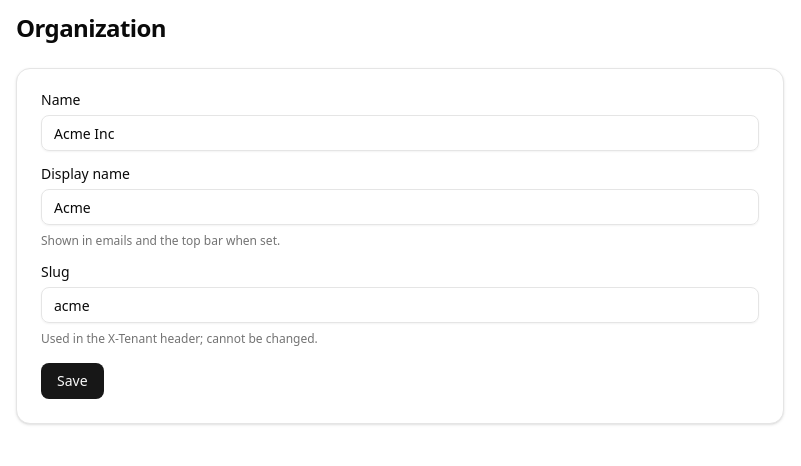
Test: Organization page › an empty name is refused before sending
This screenshot has width=801, height=466.
Clear the field labelled "Name" at (400, 133), box [41,115,759,151]
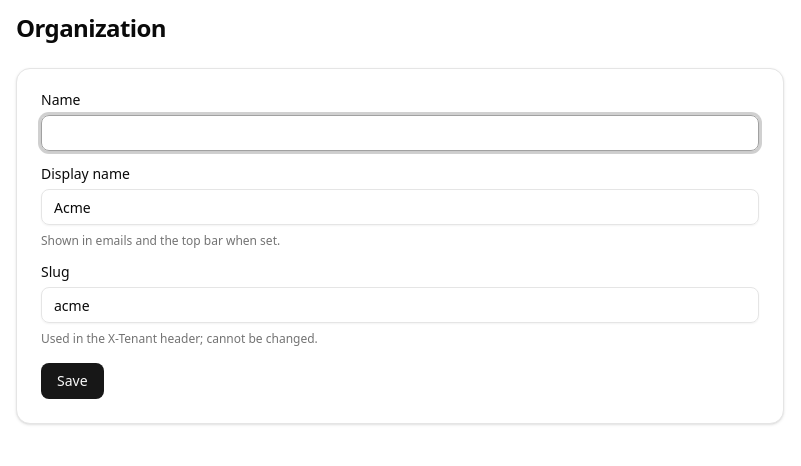
Click the button "Save".
click(72, 381)  # box [41,363,104,399]
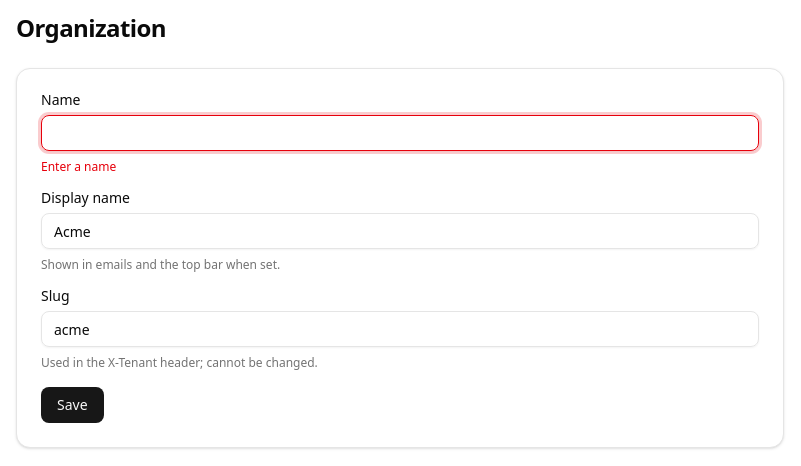
Result: the text "Enter a name" is shown at [41,158,116,175]
